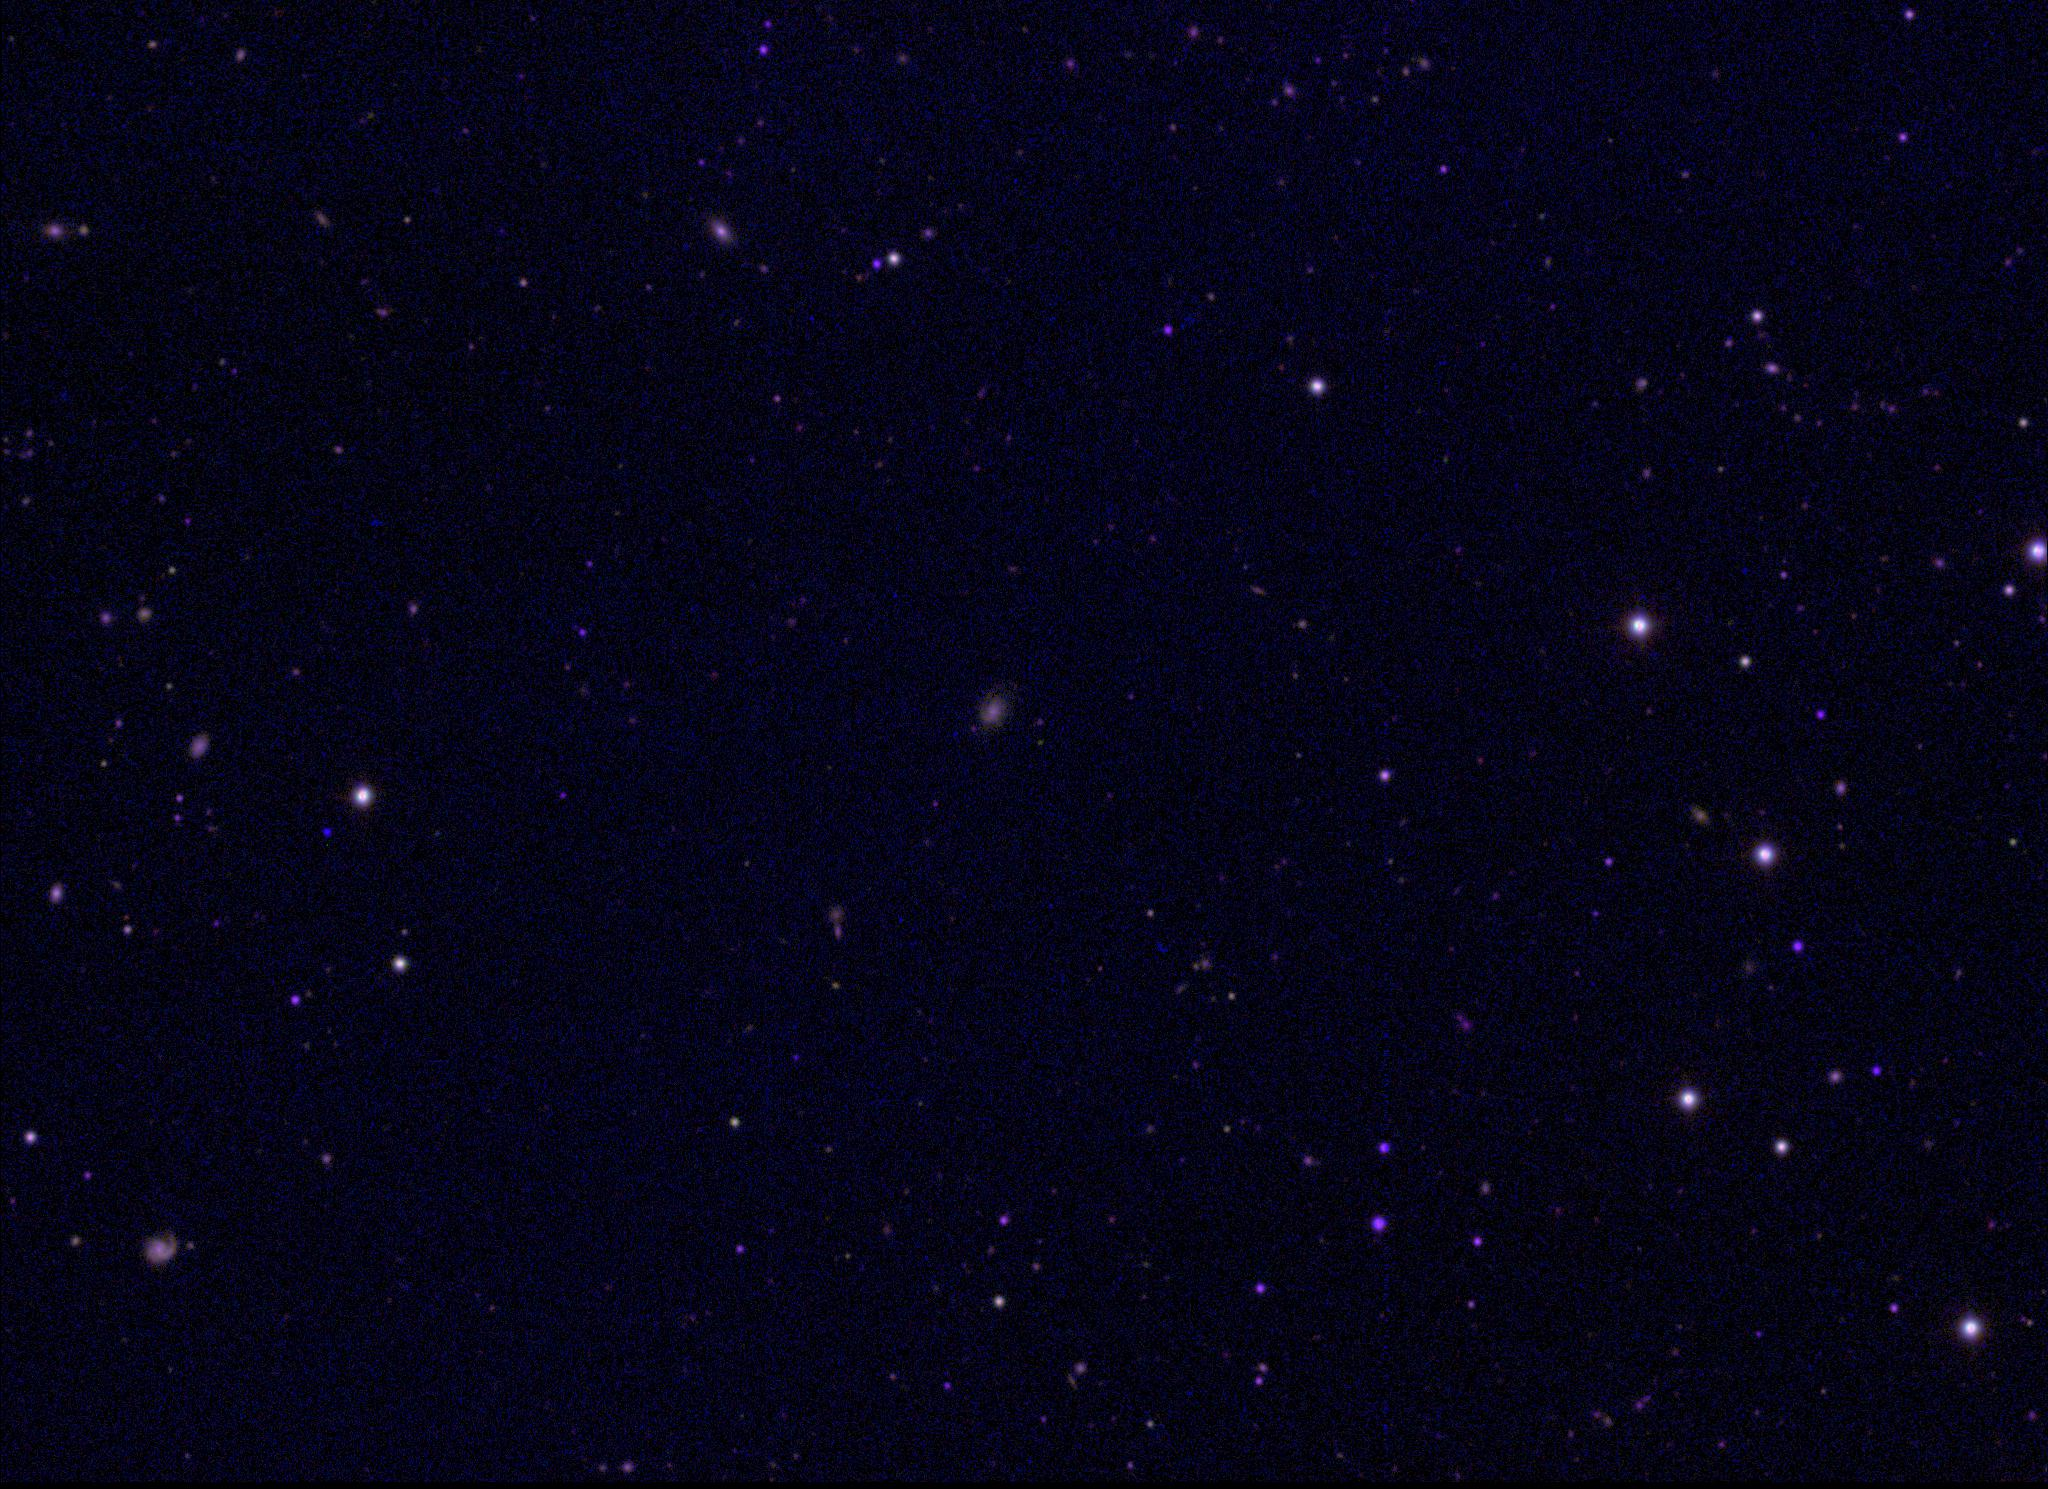L: (318, 824, 332, 838)
